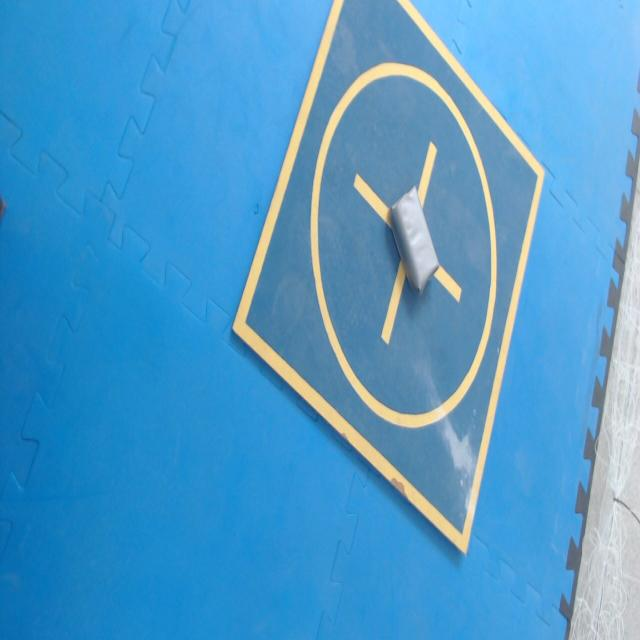esquerda: (390, 186, 439, 292)
